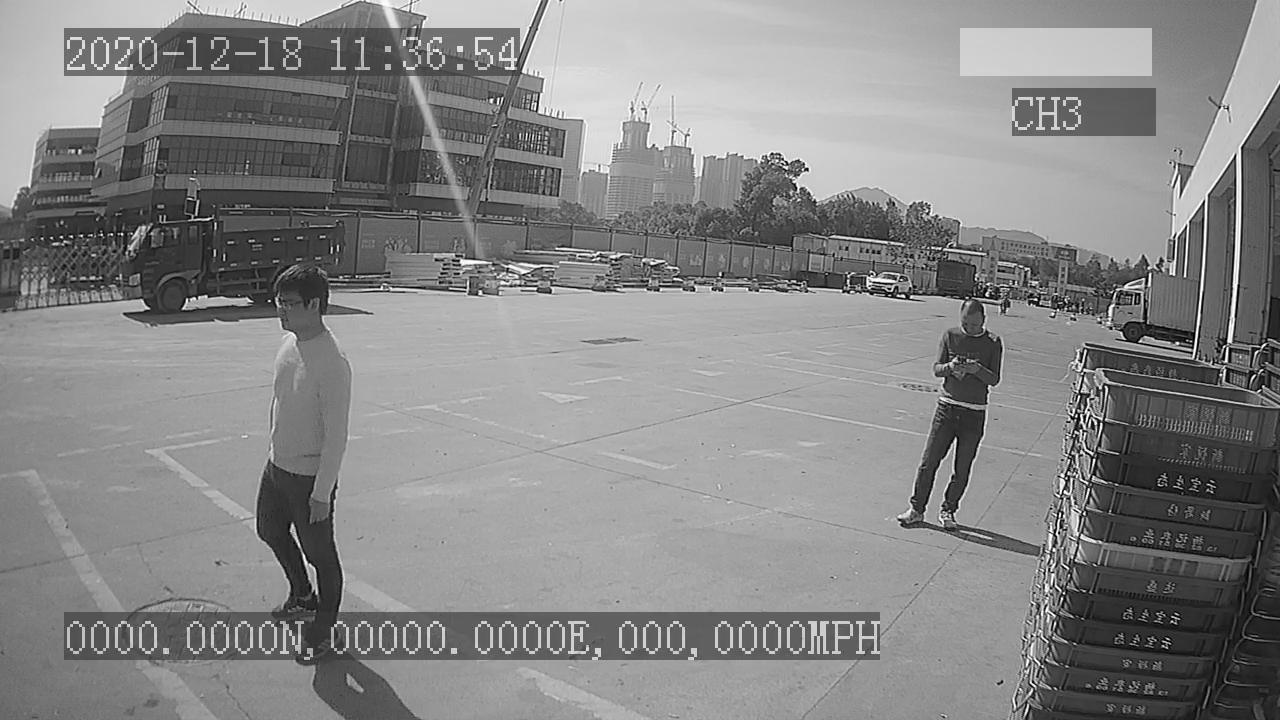person: (898, 292, 1009, 539)
